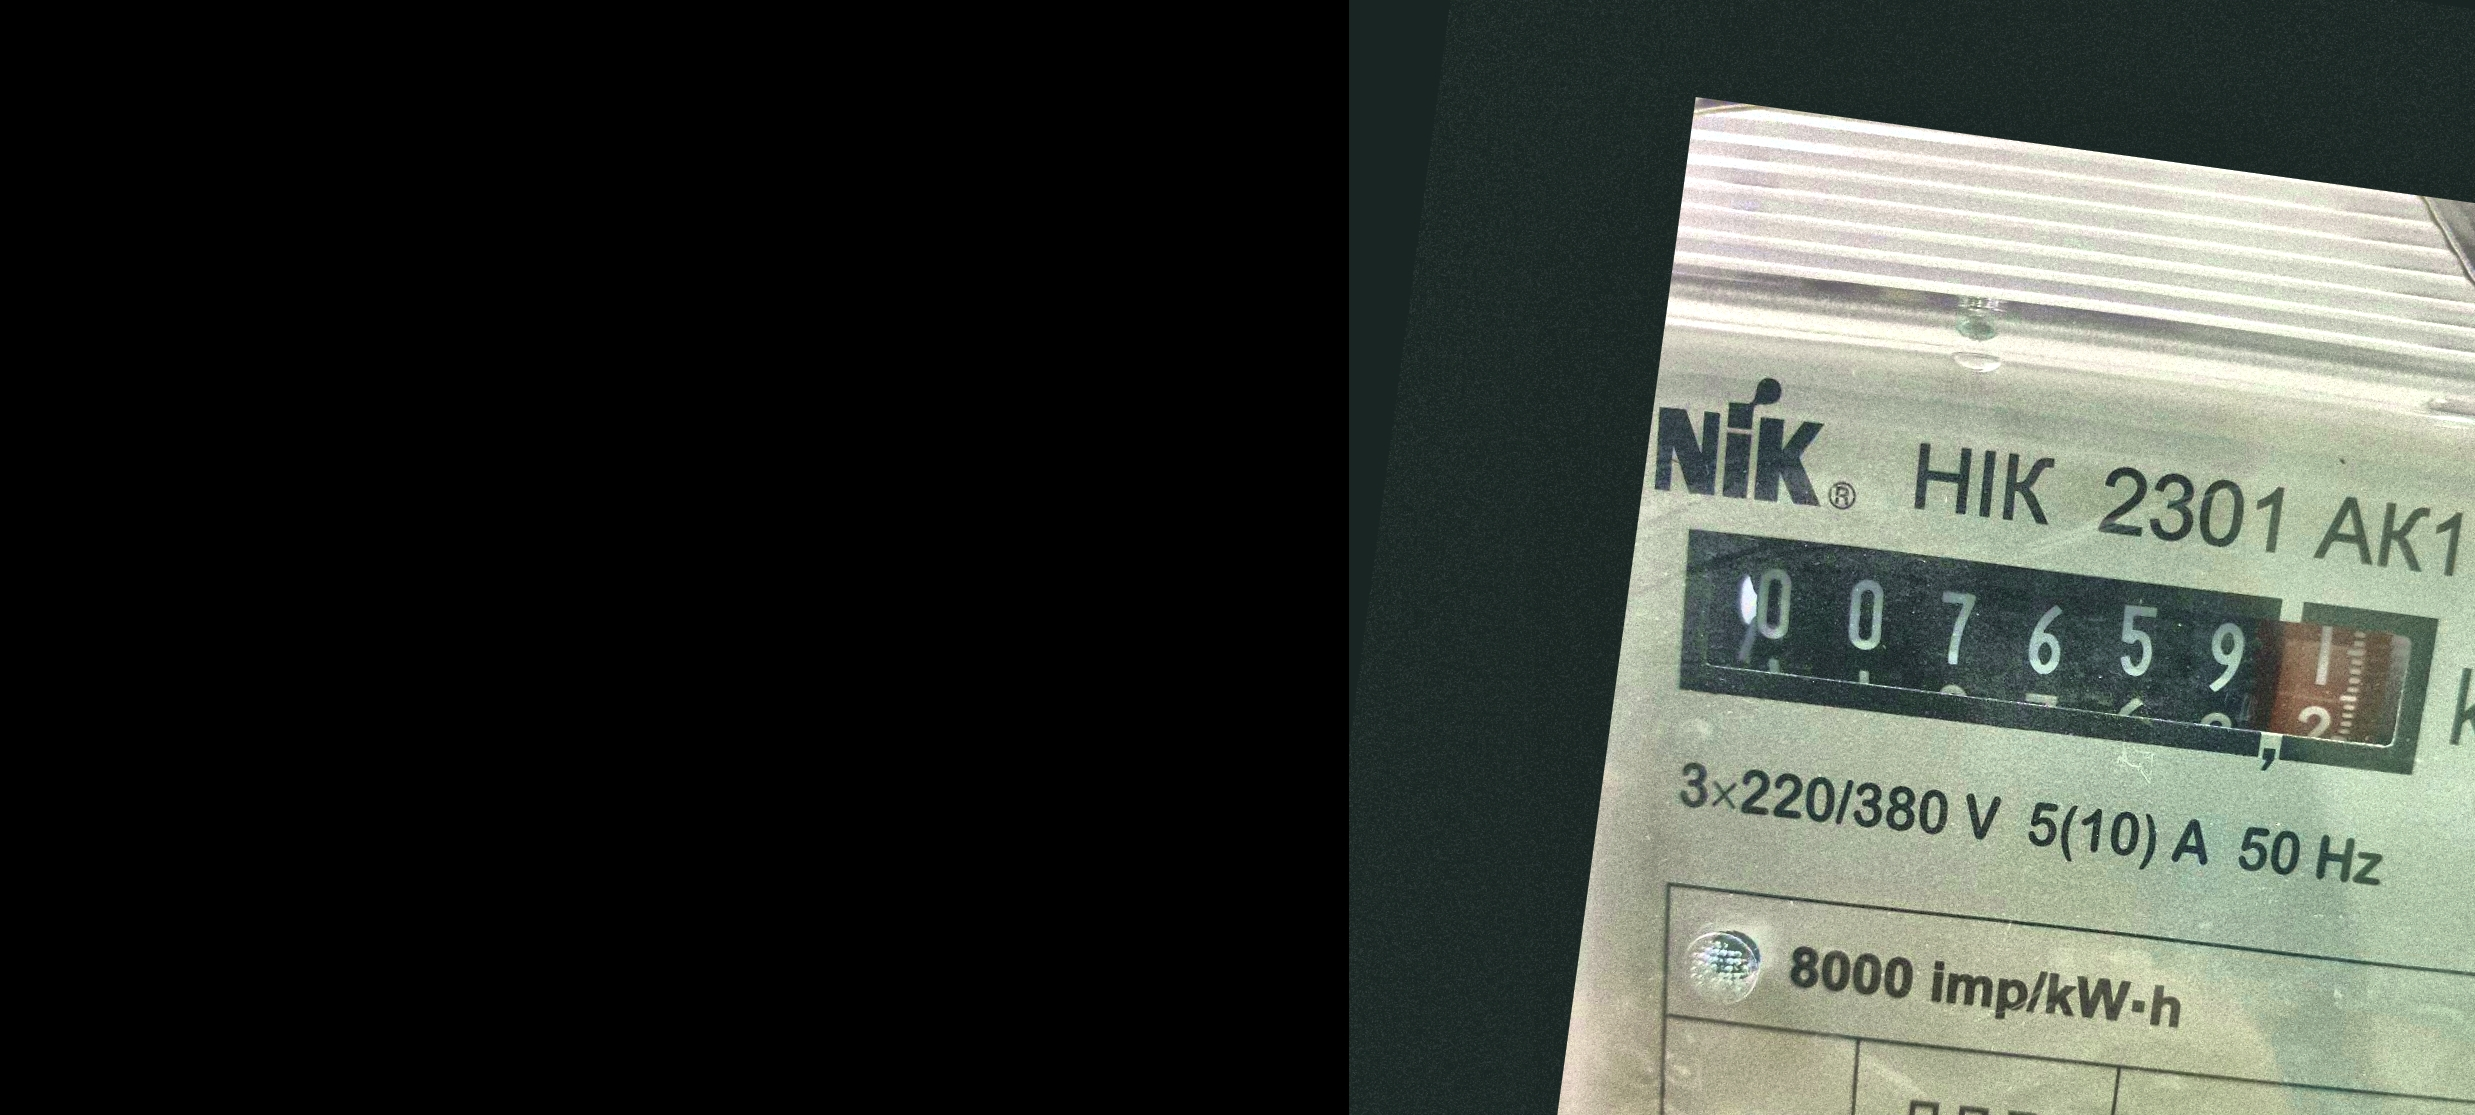0: (1831, 565, 1897, 659), (1743, 554, 1806, 651)
1: (2305, 616, 2349, 695)
5: (2107, 595, 2166, 682)
6: (2016, 592, 2076, 681)
7: (1927, 583, 1981, 671)
9: (2199, 611, 2252, 704)
screen: (1646, 493, 2462, 812)
